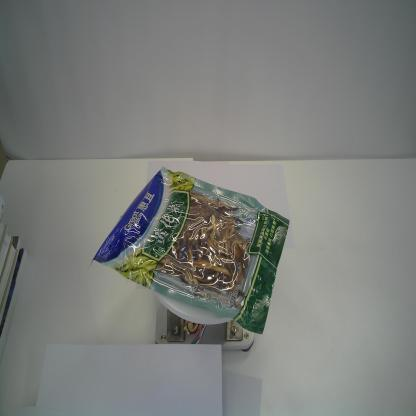Dried Food: (87, 165, 290, 334)
